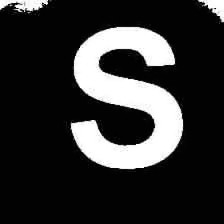LTR_S: (53, 11, 188, 176)
